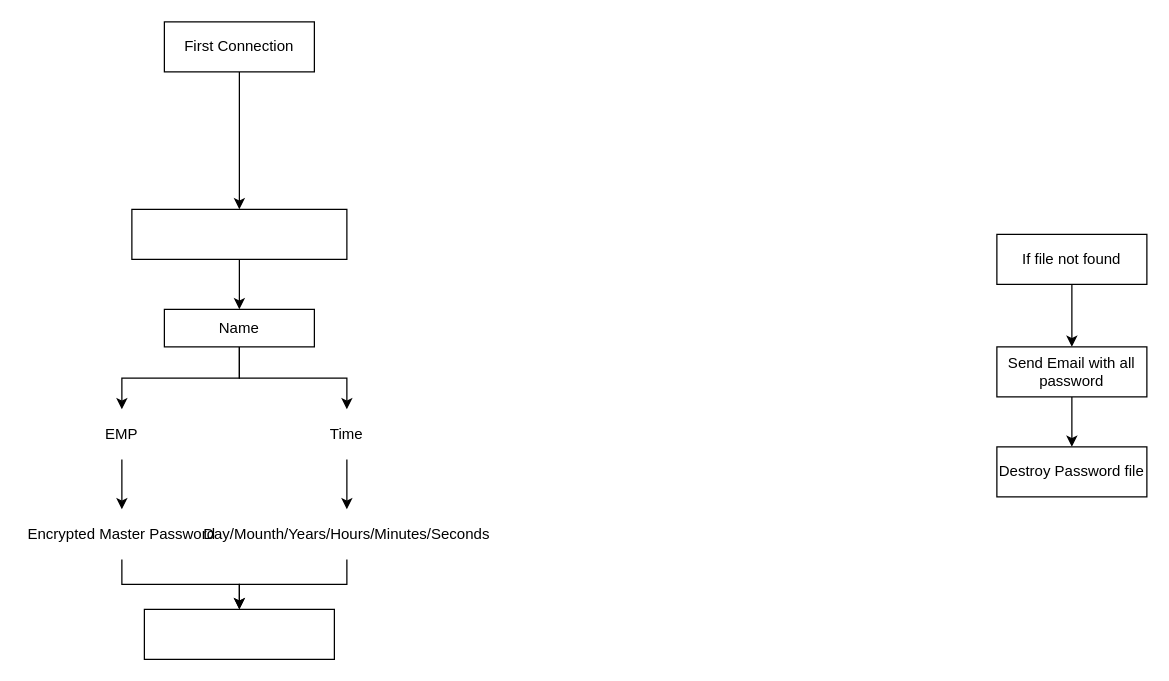
The diagram is 1169 pixels wide and 681 high, and some of its shapes have lost their labels. The box of each missing label's shape, as (x1, y1, x2, y2) in pixels:
EMP Algorythm: (131, 208, 347, 259)
EMP_1012023121059: (143, 608, 334, 659)
